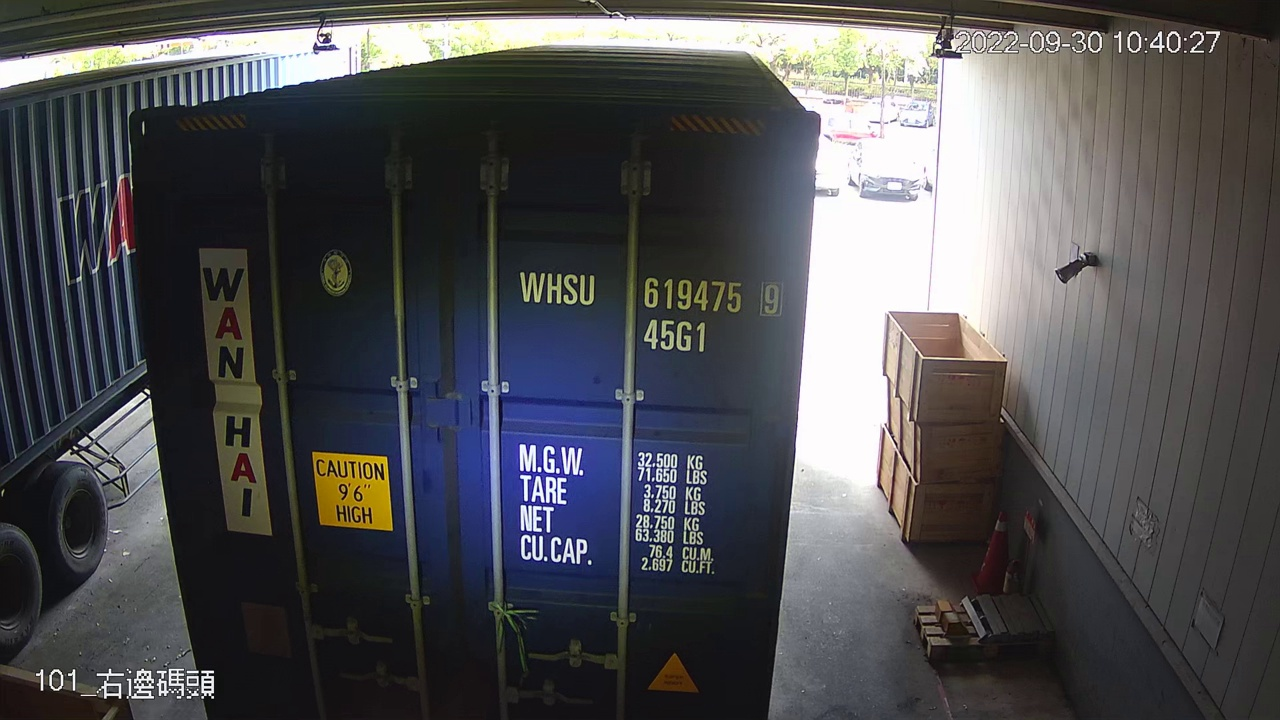container: (515, 264, 790, 356)
